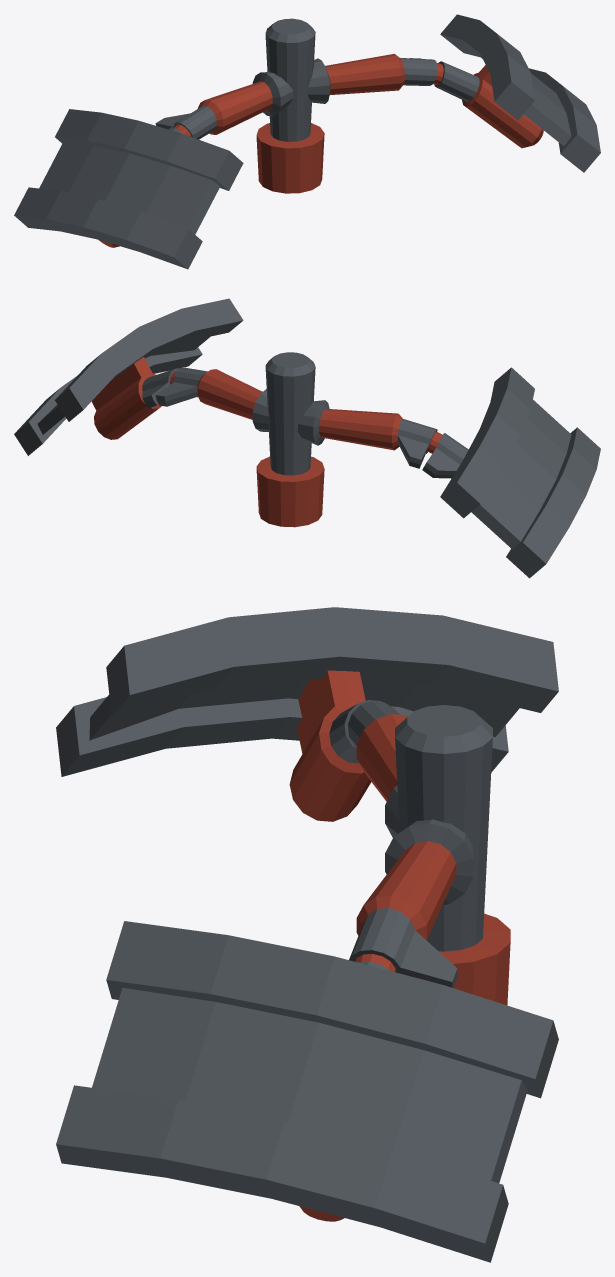
Rendered from Personal_Vehicle_03_Steering_Red.fbx.
The picture shows the model from 3 angles, top to bottom: view 1: azimuth 30°, elevation 25°; view 2: azimuth 150°, elevation 25°; view 3: azimuth 270°, elevation 25°; orthographic projection. The views are drawn at different scales.
Visible parts, largest first — view 1: Personal_Vehicle_03_Steering_Red; view 2: Personal_Vehicle_03_Steering_Red; view 3: Personal_Vehicle_03_Steering_Red.
Part boxes in pixels (x1,y1,x2,y2): Personal_Vehicle_03_Steering_Red: (14,14,600,269); Personal_Vehicle_03_Steering_Red: (14,298,600,578); Personal_Vehicle_03_Steering_Red: (56,607,558,1262).
Size of the model in its own units: 73.53 by 20.29 by 30.07.
1 material, 1 textured.
